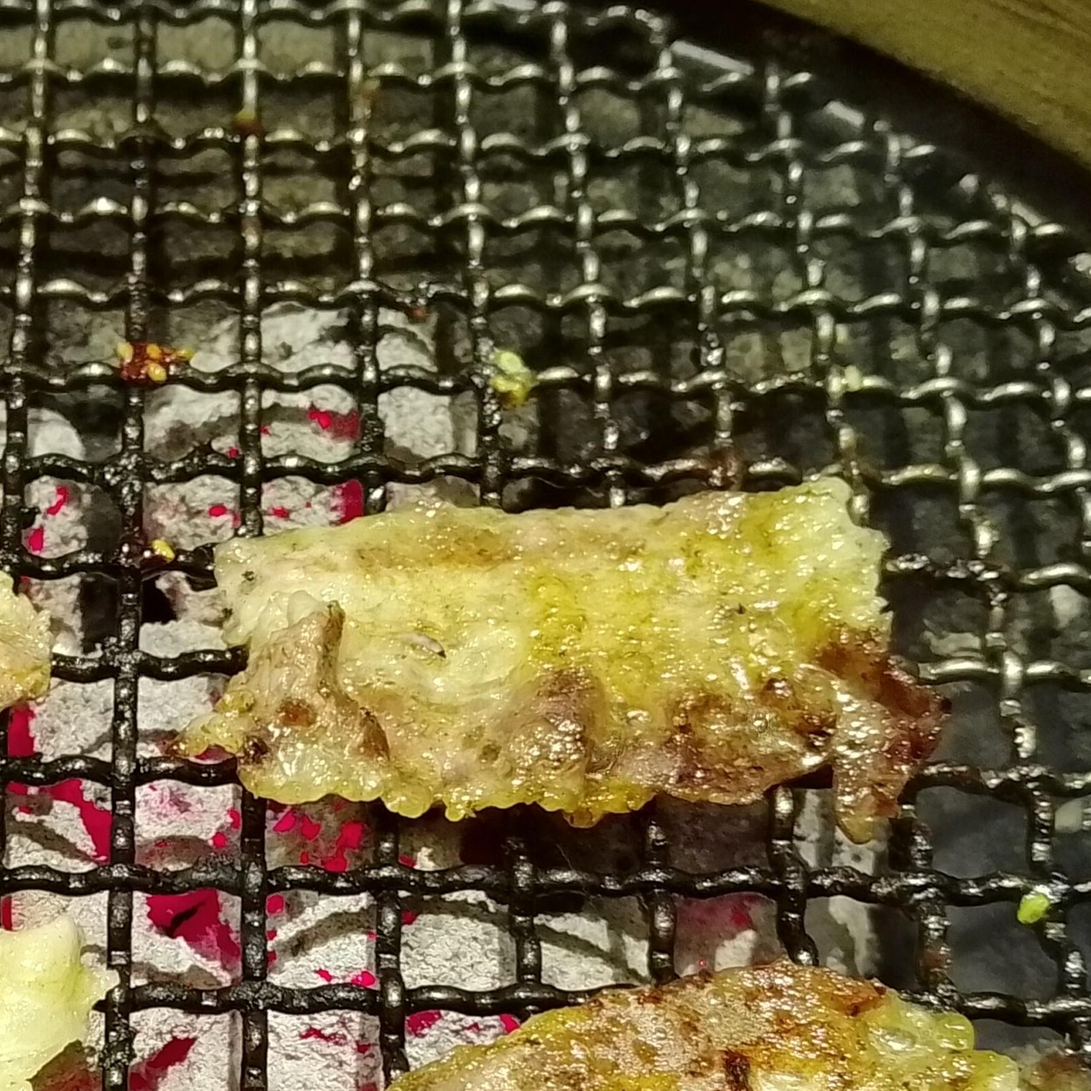Well-Cooked: (180, 476, 947, 845), (384, 968, 1090, 1090)
